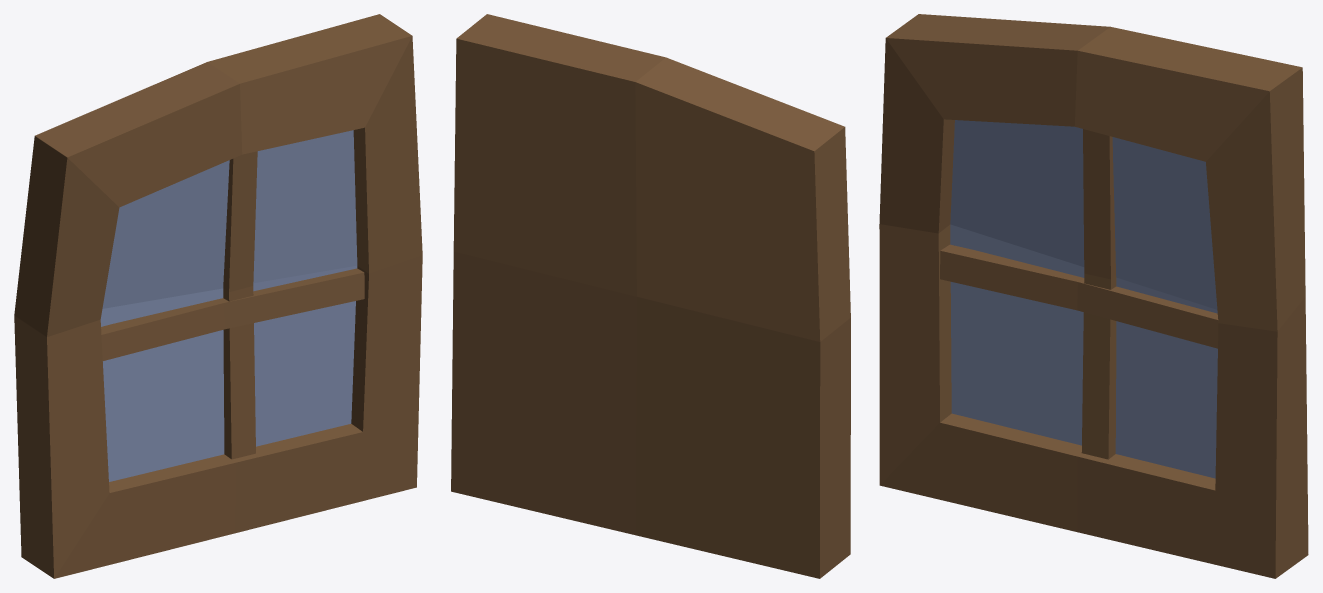
File: Window_Square.fbx
3 renders of one model, left to right at view 1: azimuth 30°, elevation 25°; view 2: azimuth 150°, elevation 25°; view 3: azimuth 330°, elevation 25°, orthographic. The views are drawn at different scales.
Visible parts, largest first — view 1: Window_Square; view 2: Window_Square; view 3: Window_Square.
Part boxes in pixels (x1,y1,x2,y2): Window_Square: (14,14,422,578); Window_Square: (451,14,850,578); Window_Square: (879,14,1308,578).
Size of the model in its own units: 74.39 by 86.36 by 13.44.
